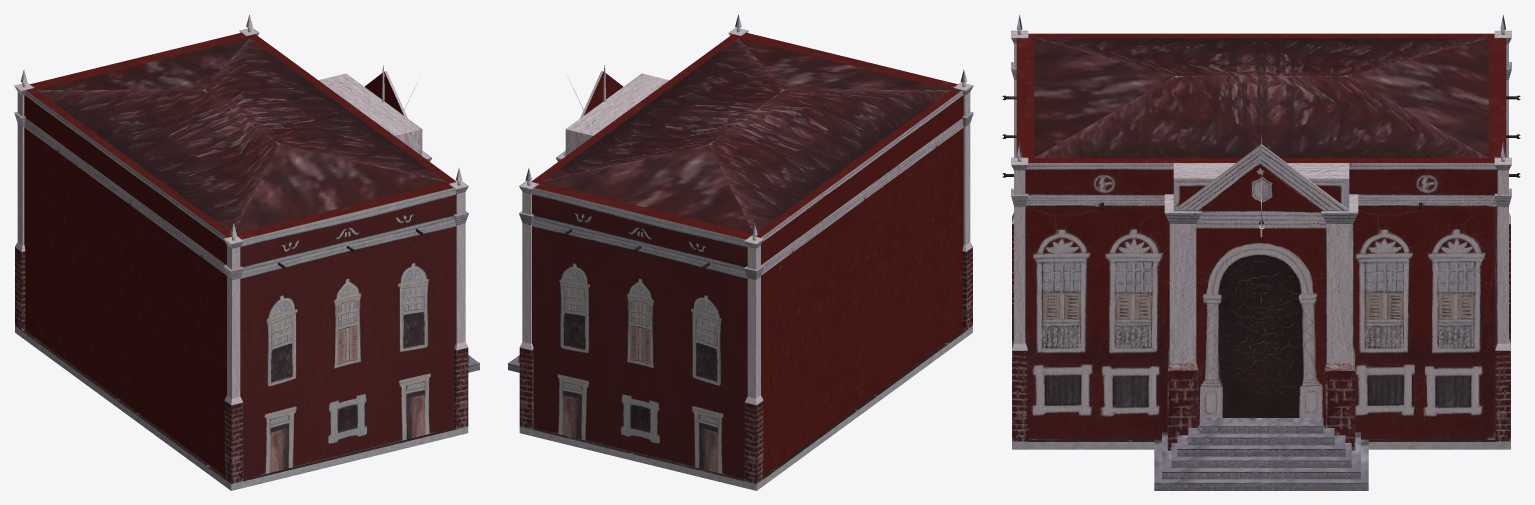
The model's file is prefeitura-antiga.glb.
3 renders of one model, left to right at view 1: azimuth 30°, elevation 25°; view 2: azimuth 150°, elevation 25°; view 3: azimuth 270°, elevation 25°, orthographic. The views are drawn at different scales.
Visible parts, largest first — view 1: PREDIO, TELHADO, PILARES PREDIO, CHÃO, PORTÃO, TRIANGULO; view 2: PREDIO, TELHADO, PILARES PREDIO, CHÃO, PORTÃO, TRIANGULO; view 3: PREDIO, TELHADO, PORTÃO, ESCADA, PILARES PORTA, PILARES PREDIO, TRIANGULO, CHÃO.
Boxes of the visible parts, <box> form: PREDIO: <box>24,32,456,479</box>; TELHADO: <box>37,38,445,233</box>; PILARES PREDIO: <box>14,27,468,484</box>; CHÃO: <box>15,326,468,490</box>; PORTÃO: <box>318,73,422,155</box>; TRIANGULO: <box>364,71,424,156</box>; PREDIO: <box>531,32,963,479</box>; TELHADO: <box>542,38,950,233</box>; PILARES PREDIO: <box>519,27,973,484</box>; CHÃO: <box>519,326,972,490</box>; PORTÃO: <box>565,73,669,155</box>; TRIANGULO: <box>563,71,623,156</box>; PREDIO: <box>1016,33,1506,439</box>; TELHADO: <box>1034,38,1488,157</box>; PORTÃO: <box>1173,163,1349,425</box>; ESCADA: <box>1154,418,1368,490</box>; PILARES PORTA: <box>1164,194,1358,450</box>; PILARES PREDIO: <box>1011,30,1511,441</box>; TRIANGULO: <box>1173,144,1349,228</box>; CHÃO: <box>1012,315,1510,449</box>.
Bounding box in the file's own units: 13.54 × 11.83 × 16.95.
1 material, 1 textured.
